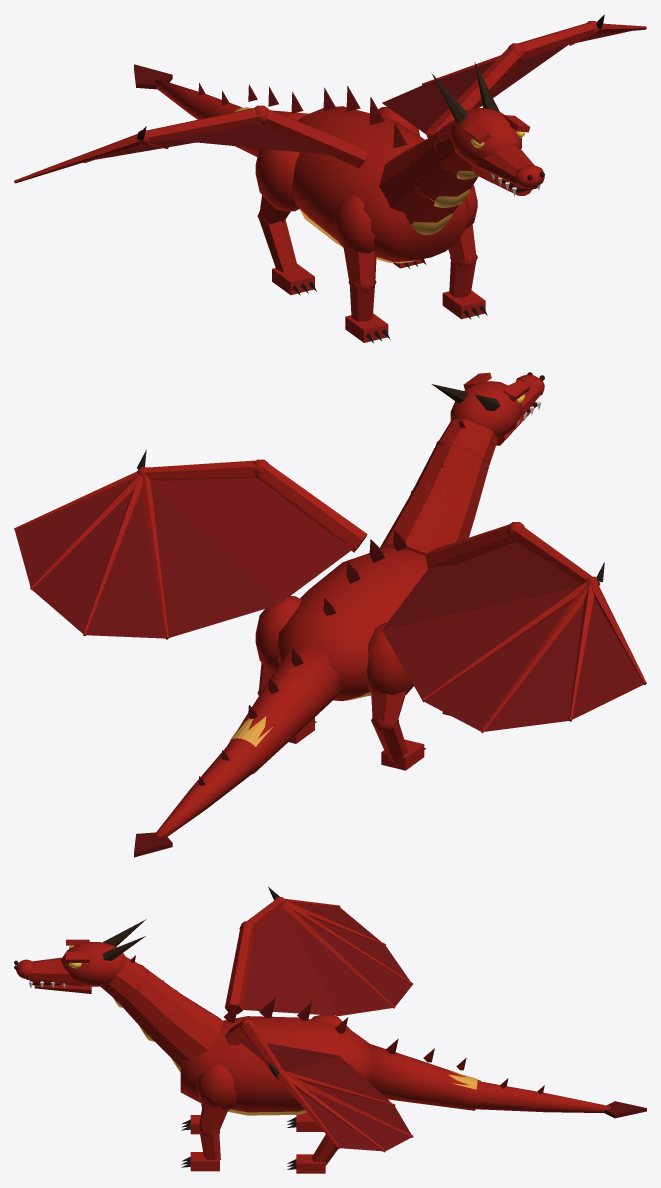
The model's file is dragon.glb.
3 renders of one model, top to bottom at view 1: azimuth 30°, elevation 25°; view 2: azimuth 150°, elevation 25°; view 3: azimuth 270°, elevation 25°, orthographic. The views are drawn at different scales.
Parts seen in each view (by area): view 1: Body, WingL, WingR, Head, LegBL, LegFL, LegFR, TailTip, Tail, LegBR; view 2: WingR, WingL, Body, Tail, LegBL, Head, TailTip, LegBR; view 3: WingL, Body, WingR, Tail, Head, LegFR, TailTip, LegBR, LegBL.
Part boxes in pixels (box(x1,y1,x2,y2)): Body: box(292, 85, 478, 263); WingL: box(14, 105, 367, 183); WingR: box(382, 14, 646, 137); Head: box(431, 62, 544, 195); LegBL: box(255, 148, 316, 295); LegFL: box(334, 196, 390, 342); LegFR: box(442, 185, 487, 319); TailTip: box(134, 64, 242, 119); Tail: box(233, 84, 308, 156); LegBR: box(378, 106, 426, 268); WingR: box(14, 449, 367, 639); WingL: box(382, 522, 646, 733); Body: box(276, 418, 498, 701); Tail: box(227, 642, 342, 773); LegBL: box(367, 622, 425, 770); Head: box(431, 372, 544, 438); TailTip: box(134, 743, 260, 857); LegBR: box(255, 596, 316, 743); WingL: box(225, 887, 413, 1015); Body: box(100, 955, 373, 1115); WingR: box(225, 1019, 413, 1152); Tail: box(367, 1038, 481, 1110); Head: box(14, 919, 146, 987); LegFR: box(181, 1065, 236, 1171); TailTip: box(468, 1078, 646, 1118); LegBR: box(287, 1134, 338, 1173); LegBL: box(287, 1015, 349, 1131).
Bounding box in the file's own units: 6.24 × 2.65 × 6.9.
